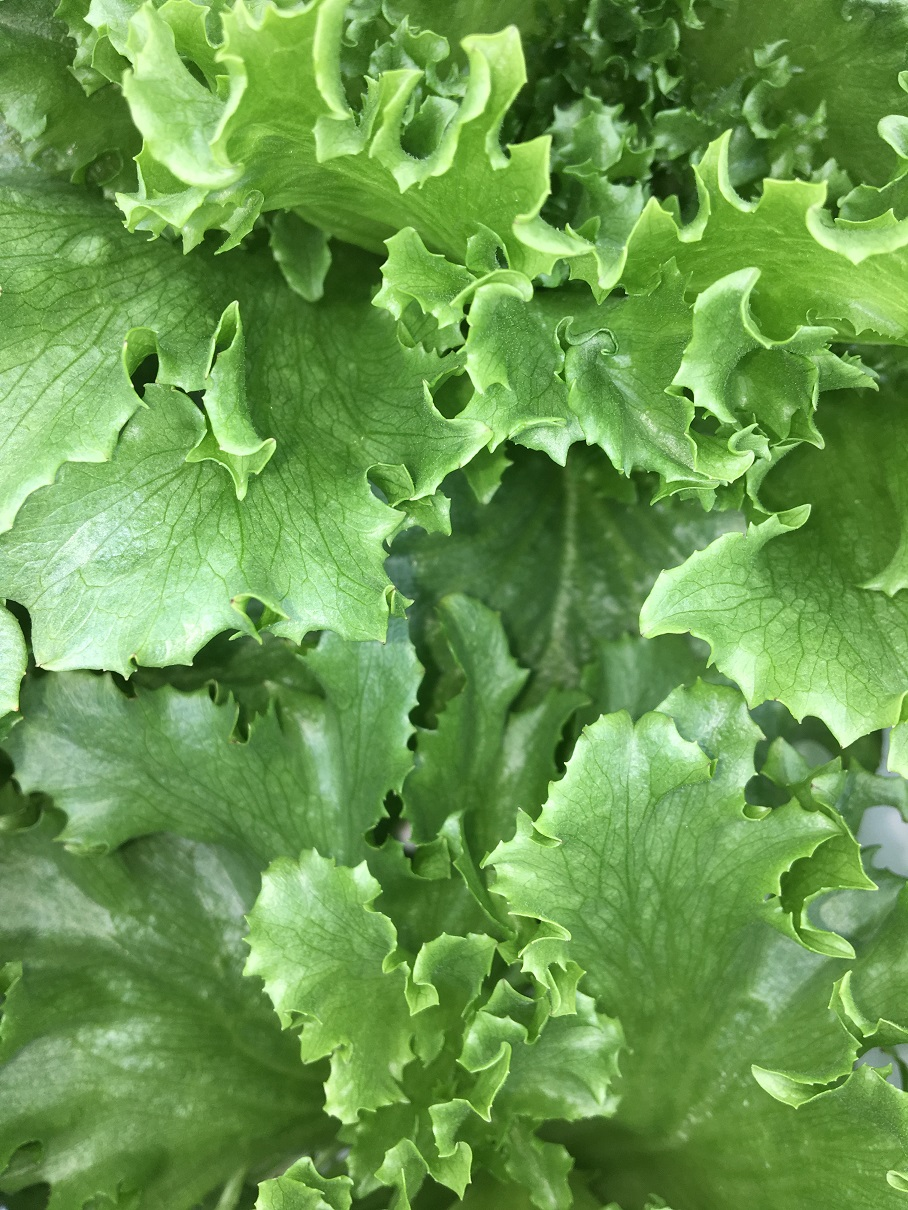tipburn: (209, 580, 250, 620), (223, 727, 254, 754)
